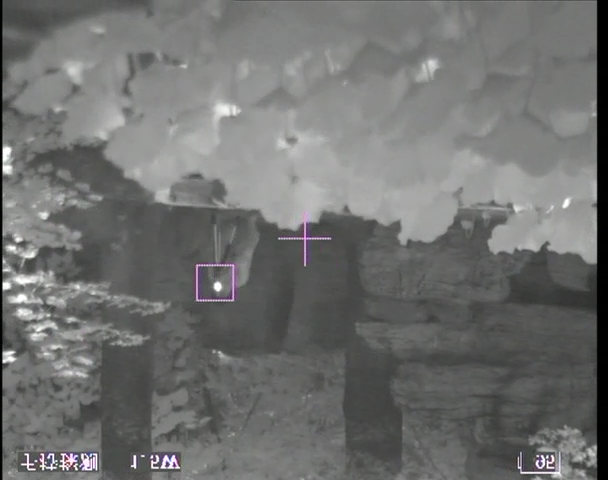my: (212, 281, 224, 293)
